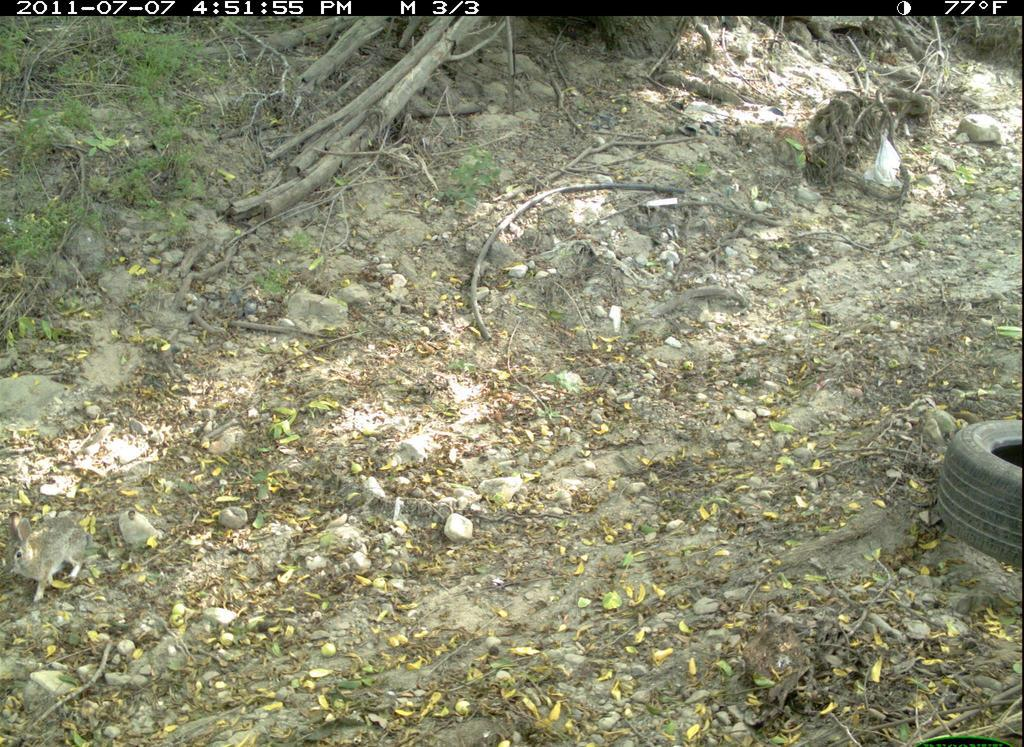rabbit: (3, 509, 104, 607)
